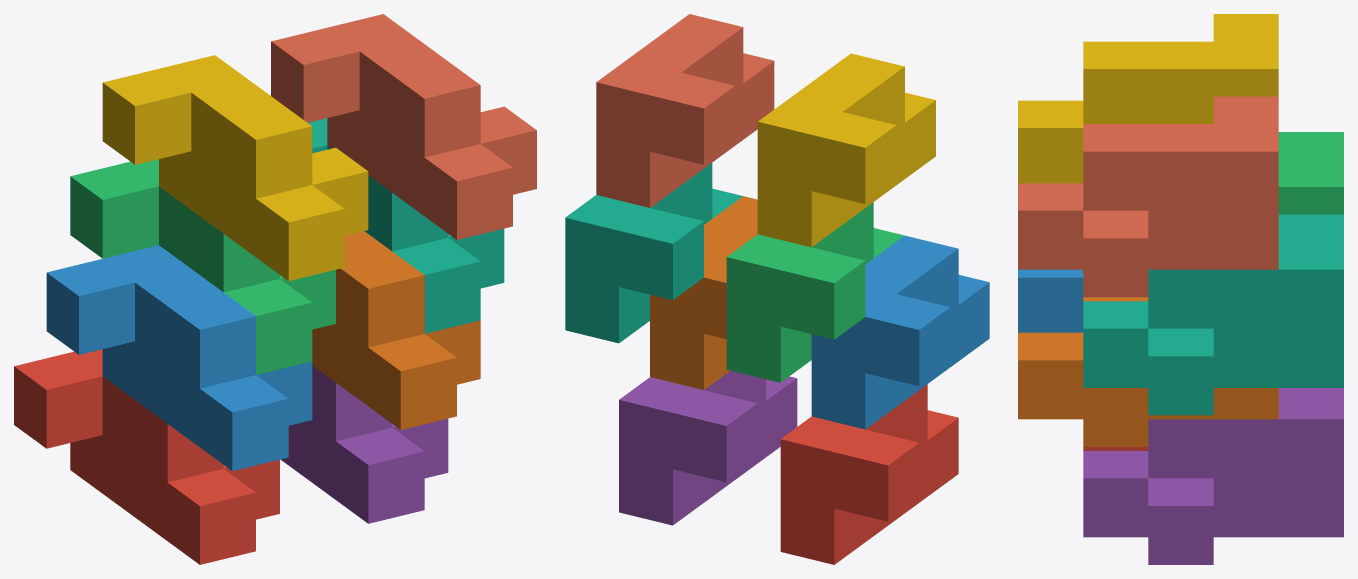
Rendered from tiling.obj.
The picture shows the model from 3 angles, left to right: view 1: azimuth 30°, elevation 25°; view 2: azimuth 150°, elevation 25°; view 3: azimuth 270°, elevation 25°; orthographic projection. The views are drawn at different scales.
Visible parts, largest first — view 1: copy_1_domain_4, copy_1_domain_8, copy_1_domain_2, copy_1_domain_1, copy_1_domain_6, copy_1_domain_3, copy_1_domain_5, copy_1_domain_7; view 2: copy_1_domain_4, copy_1_domain_8, copy_1_domain_2, copy_1_domain_1, copy_1_domain_5, copy_1_domain_3, copy_1_domain_7, copy_1_domain_6; view 3: copy_1_domain_8, copy_1_domain_7, copy_1_domain_5, copy_1_domain_4, copy_1_domain_6, copy_1_domain_3, copy_1_domain_2.
Boxes of the visible parts, x1,y1,x2,y2 form: copy_1_domain_4: [102, 55, 368, 280]; copy_1_domain_8: [271, 14, 536, 239]; copy_1_domain_2: [46, 245, 312, 470]; copy_1_domain_1: [14, 349, 279, 564]; copy_1_domain_6: [312, 231, 480, 429]; copy_1_domain_3: [70, 159, 335, 374]; copy_1_domain_5: [280, 365, 448, 523]; copy_1_domain_7: [308, 118, 504, 333]; copy_1_domain_4: [757, 53, 935, 247]; copy_1_domain_8: [596, 14, 774, 207]; copy_1_domain_2: [811, 235, 989, 429]; copy_1_domain_1: [780, 384, 958, 564]; copy_1_domain_5: [619, 370, 797, 525]; copy_1_domain_3: [726, 202, 904, 382]; copy_1_domain_7: [565, 163, 742, 343]; copy_1_domain_6: [650, 196, 757, 389]; copy_1_domain_8: [1018, 96, 1278, 297]; copy_1_domain_7: [1083, 214, 1343, 415]; copy_1_domain_5: [1083, 388, 1343, 564]; copy_1_domain_4: [1018, 14, 1278, 183]; copy_1_domain_6: [1018, 297, 1278, 446]; copy_1_domain_3: [1278, 132, 1343, 214]; copy_1_domain_2: [1018, 269, 1083, 332].
Size of the model in its own units: 7 by 7 by 5.
